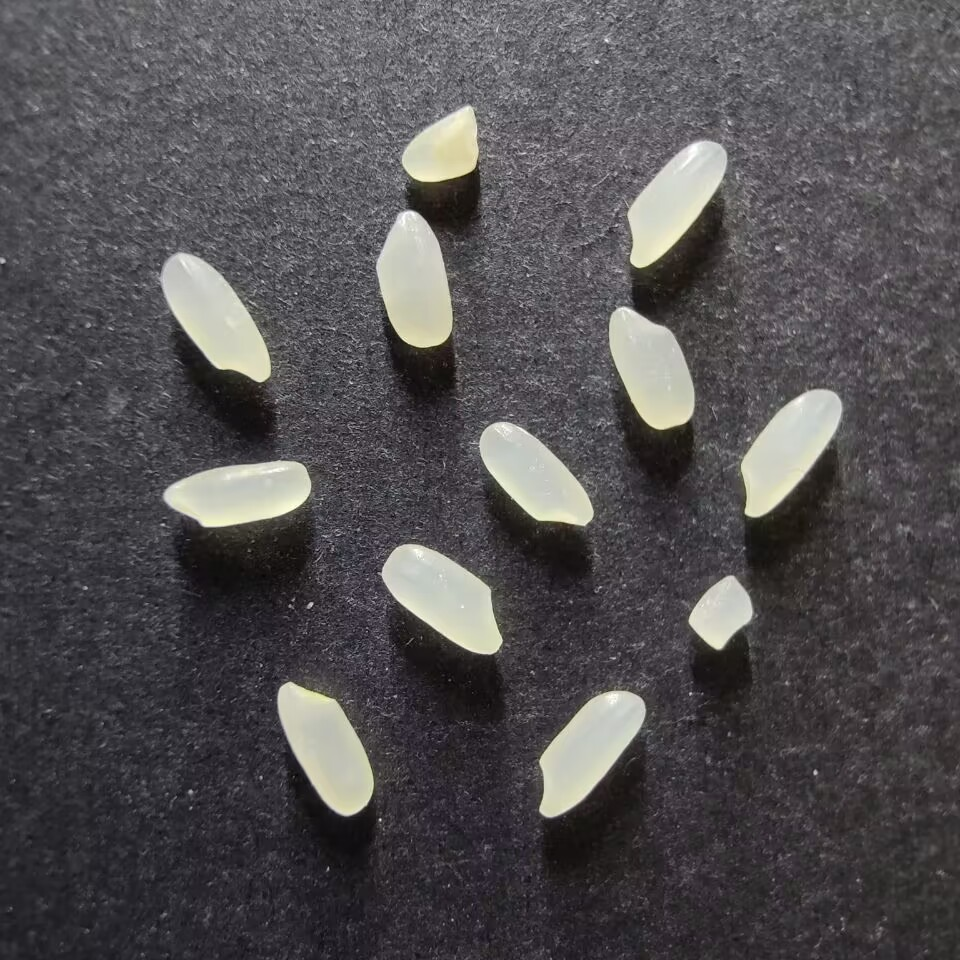broken: (400, 104, 479, 183), (687, 574, 752, 650)
rice: (160, 252, 271, 383), (537, 689, 646, 818), (381, 543, 503, 655), (740, 387, 842, 520), (277, 680, 375, 817), (625, 139, 727, 268), (478, 421, 593, 528), (606, 305, 695, 430), (374, 210, 453, 348), (162, 460, 311, 528)
